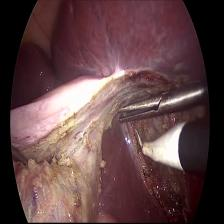Grasper: (115, 79, 192, 130)
Hook: (130, 119, 192, 175)
